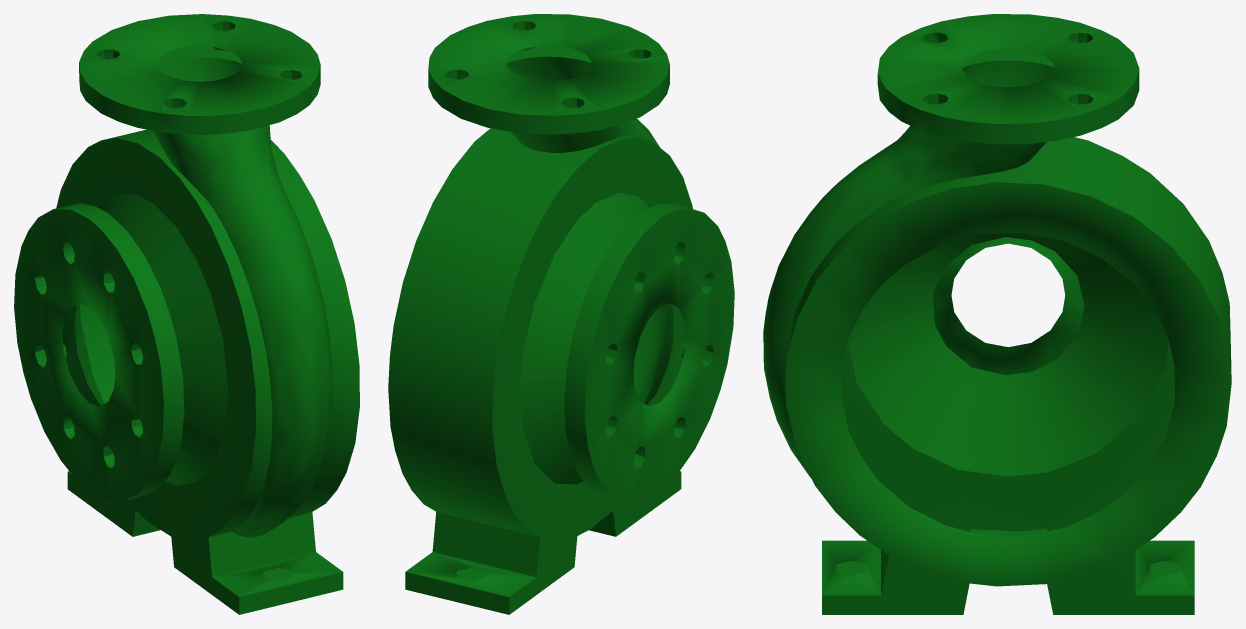
The model's file is Kreiselpumpe_Spiralgehause_test.fbx.
The picture shows the model from 3 angles, left to right: view 1: azimuth 30°, elevation 25°; view 2: azimuth 150°, elevation 25°; view 3: azimuth 270°, elevation 25°; orthographic projection. The views are drawn at different scales.
Visible parts, largest first — view 1: Gehäuse_Einfach_Spirale2; view 2: Gehäuse_Einfach_Spirale2; view 3: Gehäuse_Einfach_Spirale2.
Part boxes in pixels (x1,y1,x2,y2): Gehäuse_Einfach_Spirale2: (14, 14, 359, 614); Gehäuse_Einfach_Spirale2: (388, 14, 734, 614); Gehäuse_Einfach_Spirale2: (763, 14, 1231, 614).
Size of the model in its own units: 19.03 by 40.35 by 33.14.
